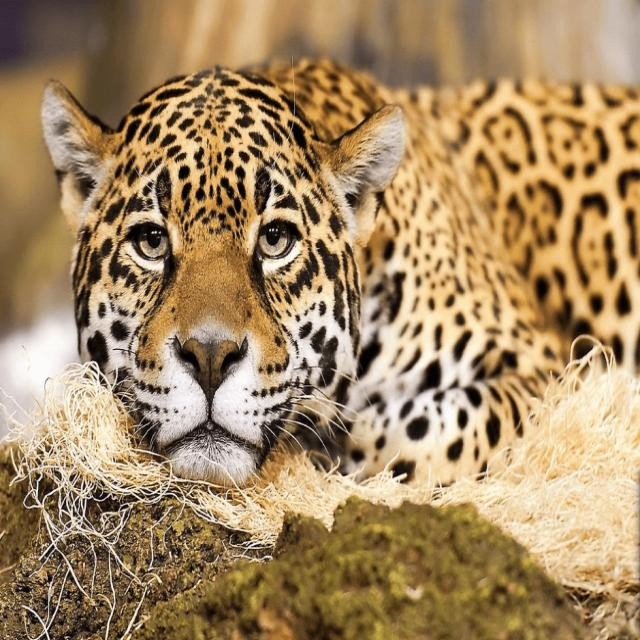Jaguar: (39, 53, 640, 496)
